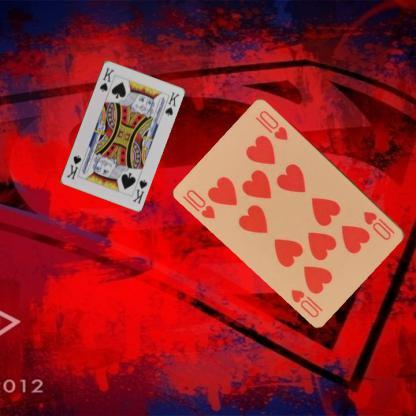10h: (361, 208, 397, 242), (184, 186, 218, 220)
Ks: (97, 64, 116, 92), (130, 176, 148, 204)
